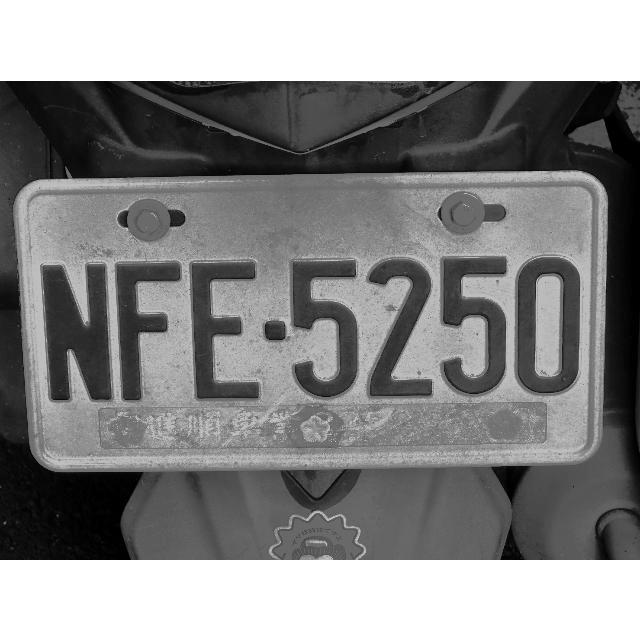-: (258, 312, 288, 348)
0: (514, 251, 584, 397)
2: (364, 256, 438, 402)
5: (288, 255, 362, 399), (440, 255, 512, 398)
E: (188, 258, 264, 400)
F: (112, 260, 182, 402)
N: (42, 260, 116, 402)
